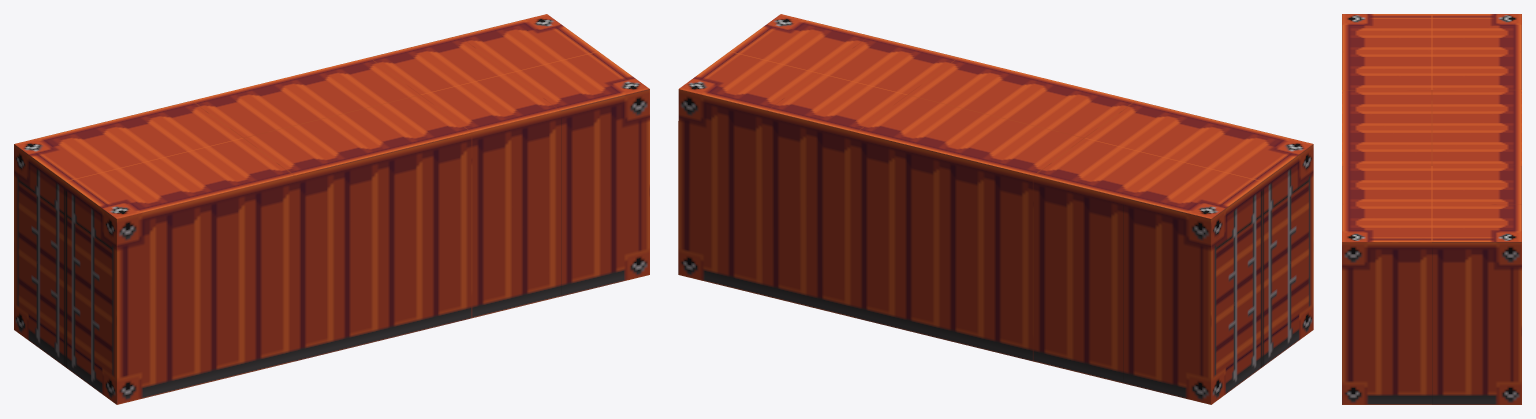
The model's file is Shipping_Container.obj.
3 renders of one model, left to right at view 1: azimuth 30°, elevation 25°; view 2: azimuth 150°, elevation 25°; view 3: azimuth 270°, elevation 25°, orthographic. The views are drawn at different scales.
Parts seen in each view (by area): view 1: Container_Red_Cube.001; view 2: Container_Red_Cube.001; view 3: Container_Red_Cube.001.
Boxes of the visible parts, x1=… form: Container_Red_Cube.001: x1=14, y1=14, x2=649, y2=404; Container_Red_Cube.001: x1=678, y1=14, x2=1313, y2=404; Container_Red_Cube.001: x1=1342, y1=14, x2=1521, y2=404.
Size of the model in its own units: 6 by 2 by 2.
